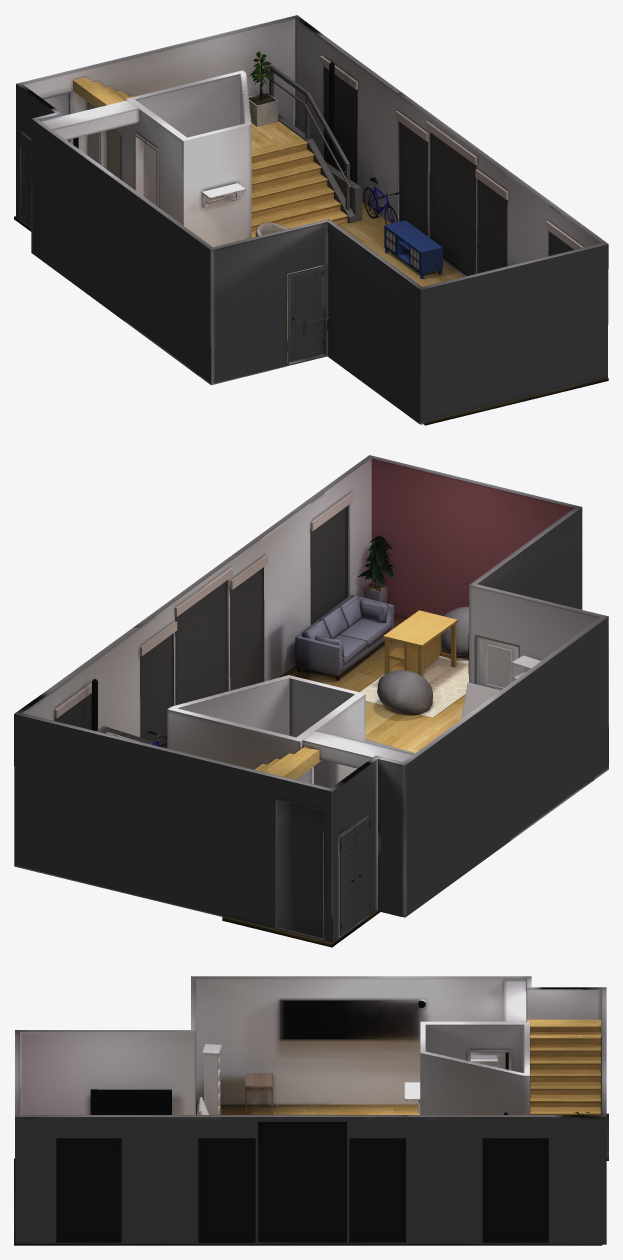
Rendered from fractal_traj11_table.glb.
The picture shows the model from 3 angles, top to bottom: view 1: azimuth 30°, elevation 25°; view 2: azimuth 150°, elevation 25°; view 3: azimuth 270°, elevation 25°; orthographic projection. The views are drawn at different scales.
Parts seen in each view (by area): view 1: frl_apartment_wall_arch.001, frl_apartment_blinds, frl_apartment_stair, frl_apartment_floor, frl_apartment_door_01, frl_apartment_tvstand, frl_apartment_indoor_plant_01, frl_apartment_door_05, frl_apartment_door_part_03, frl_apartment_door_part_04, frl_apartment_bike_01, frl_apartment_clothes_hanger_02 (+1 smaller); view 2: frl_apartment_wall_arch.001, frl_apartment_blinds, frl_apartment_door_04, frl_apartment_floor, frl_apartment_sofa, frl_apartment_table_02, frl_apartment_rug_01, frl_apartment_beanbag_01, frl_apartment_door_01, frl_apartment_door_05, frl_apartment_door_06, frl_apartment_stair (+4 smaller); view 3: frl_apartment_wall_arch.001, frl_apartment_blinds, frl_apartment_stair, frl_apartment_floor, frl_apartment_tv_screen, frl_apartment_wall_cabinet_01, frl_apartment_table_01.
Boxes of the visible parts, x1,y1,x2,y2 form: frl_apartment_wall_arch.001: (16, 15, 608, 424); frl_apartment_blinds: (320, 56, 583, 275); frl_apartment_stair: (73, 65, 361, 237); frl_apartment_floor: (14, 201, 608, 425); frl_apartment_door_01: (289, 267, 323, 362); frl_apartment_tvstand: (384, 220, 442, 278); frl_apartment_indoor_plant_01: (248, 52, 278, 126); frl_apartment_door_05: (21, 133, 31, 226); frl_apartment_door_part_03: (287, 265, 327, 365); frl_apartment_door_part_04: (135, 133, 158, 207); frl_apartment_bike_01: (363, 177, 400, 224); frl_apartment_clothes_hanger_02: (201, 183, 245, 207); frl_apartment_wall_arch.001: (14, 455, 608, 943); frl_apartment_blinds: (54, 492, 353, 748); frl_apartment_door_04: (276, 800, 323, 938); frl_apartment_floor: (222, 616, 468, 947); frl_apartment_sofa: (295, 594, 394, 680); frl_apartment_table_02: (383, 610, 457, 676); frl_apartment_rug_01: (359, 656, 468, 717); frl_apartment_beanbag_01: (377, 670, 432, 715); frl_apartment_door_01: (479, 637, 518, 690); frl_apartment_door_05: (340, 827, 355, 935); frl_apartment_door_06: (354, 816, 370, 924); frl_apartment_stair: (97, 726, 320, 779); frl_apartment_wall_arch.001: (15, 976, 606, 1244); frl_apartment_blinds: (56, 1122, 548, 1242); frl_apartment_stair: (526, 1019, 600, 1115); frl_apartment_floor: (14, 1104, 608, 1245); frl_apartment_tv_screen: (90, 1089, 171, 1114); frl_apartment_wall_cabinet_01: (202, 1044, 221, 1114); frl_apartment_table_01: (245, 1073, 272, 1114).
Size of the model in its own units: 7.26 by 3.21 by 12.93.
1 material, 1 textured.
